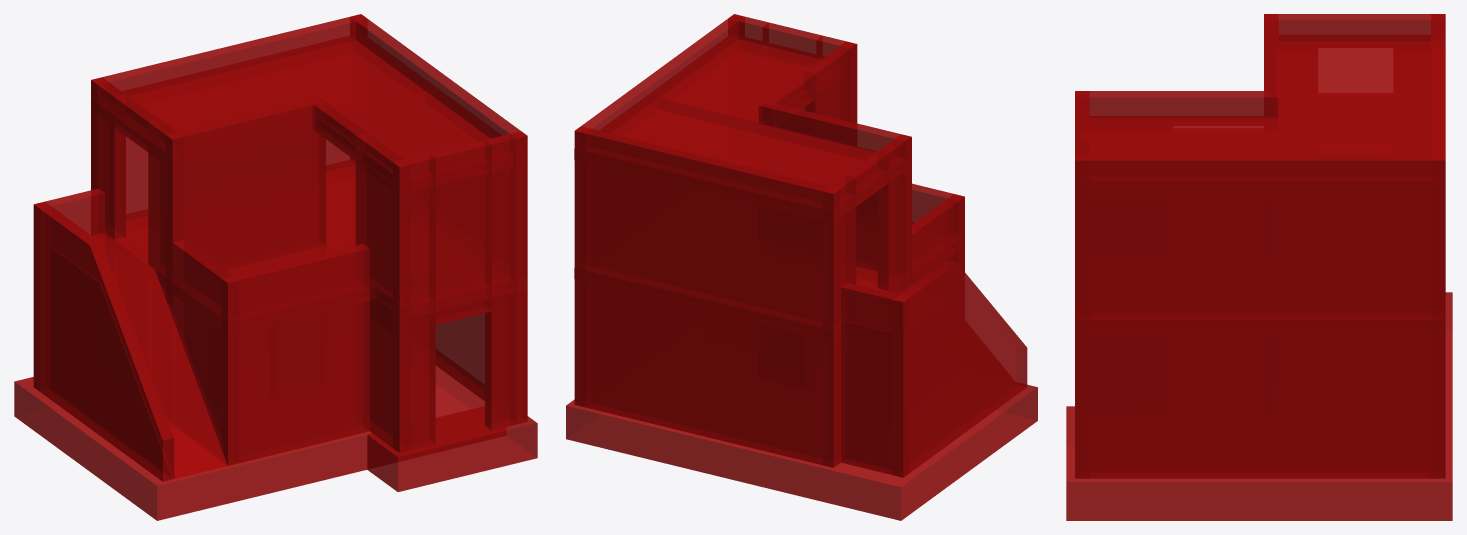
The model's file is SM_Bld_Village_House_02_Collision.fbx.
3 renders of one model, left to right at view 1: azimuth 30°, elevation 25°; view 2: azimuth 150°, elevation 25°; view 3: azimuth 270°, elevation 25°, orthographic. The views are drawn at different scales.
Parts seen in each view (by area): view 1: SM_Bld_Village_House_02_Collision; view 2: SM_Bld_Village_House_02_Collision; view 3: SM_Bld_Village_House_02_Collision.
Boxes of the visible parts, x1,y1,x2,y2 form: SM_Bld_Village_House_02_Collision: (14,14,537,520); SM_Bld_Village_House_02_Collision: (566,14,1037,520); SM_Bld_Village_House_02_Collision: (1066,14,1452,520).
Size of the model in its own units: 768 by 674 by 660.
